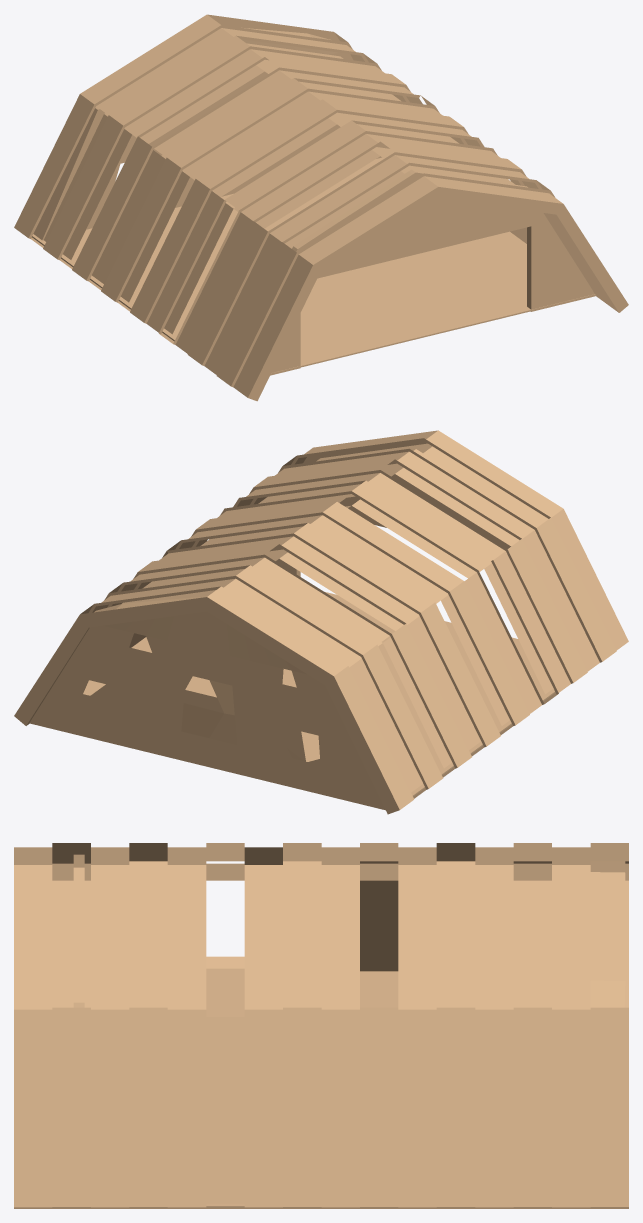
The model's file is angar beige60%.fbx.
The picture shows the model from 3 angles, top to bottom: view 1: azimuth 30°, elevation 25°; view 2: azimuth 150°, elevation 25°; view 3: azimuth 270°, elevation 25°; orthographic projection. The views are drawn at different scales.
Visible parts, largest first — view 1: Cylinder, Plane.004, Plane.001, Plane; view 2: Cylinder, Plane, Plane.004, Plane.001; view 3: Cylinder, Plane, Plane.004, Plane.001.
Part boxes in pixels (<box>): Cylinder: <box>14,14,628,401</box>; Plane.004: <box>32,157,595,374</box>; Plane.001: <box>270,169,595,375</box>; Plane: <box>33,27,389,240</box>; Cylinder: <box>14,430,628,814</box>; Plane: <box>29,596,385,810</box>; Plane.004: <box>83,592,555,796</box>; Plane.001: <box>270,449,534,576</box>; Cylinder: <box>14,843,628,1208</box>; Plane: <box>590,861,625,1007</box>; Plane.004: <box>206,968,398,1206</box>; Plane.001: <box>73,854,84,1007</box>.
Size of the model in its own units: 385 by 165 by 400.
